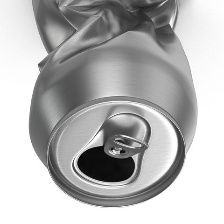can: (16, 0, 211, 210)
